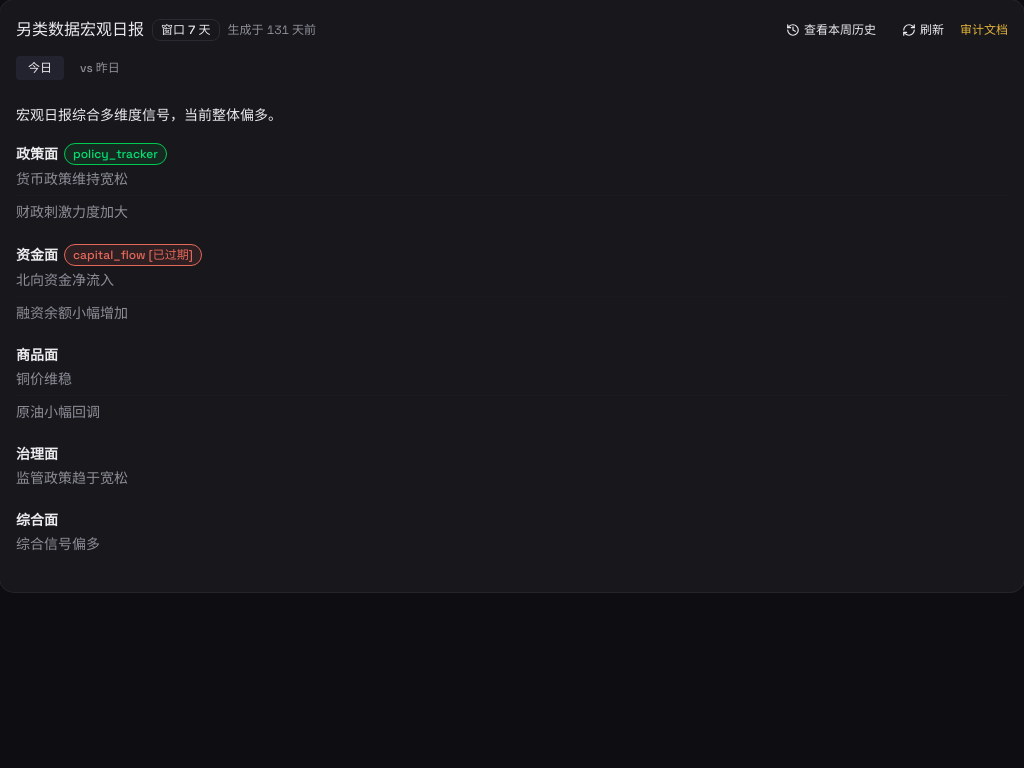
Test case: MacroBriefingTile › opens history panel and shows entry on button click
Click the button with test id "macro-briefing-history-button": (831, 30) 776,16 -> 886,44
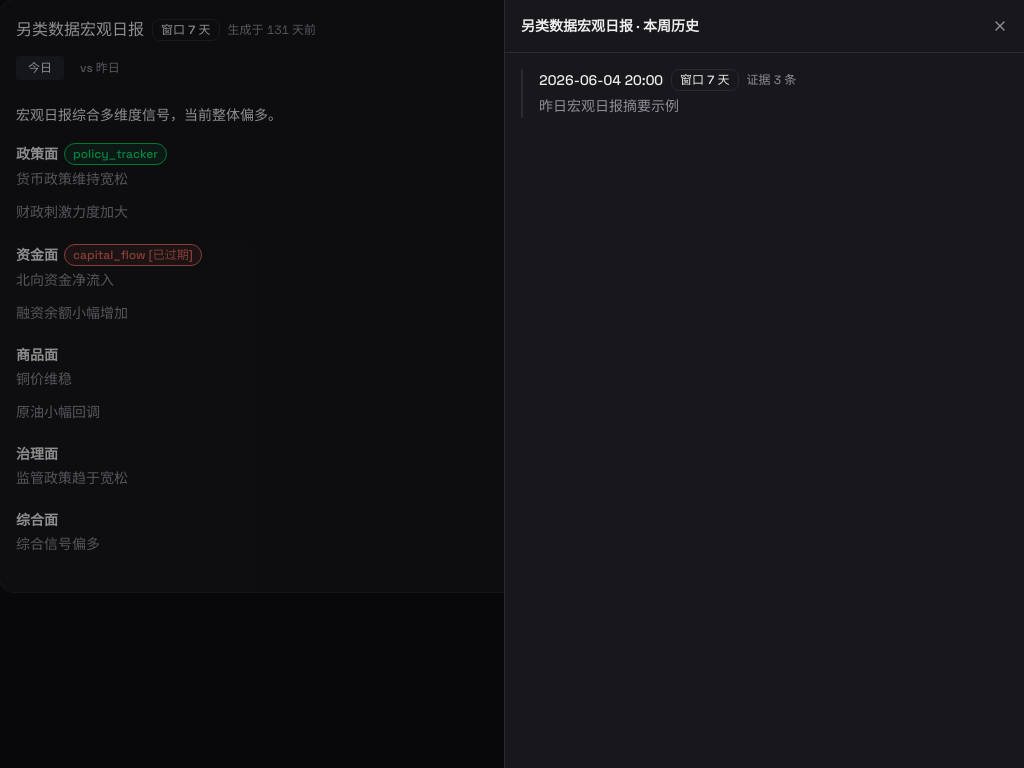
Result: the list item with test id "macro-briefing-history-entry-0" is shown at 521,69 -> 1008,118
